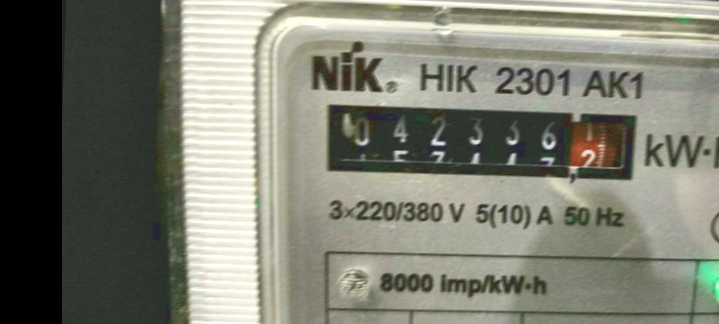0: (352, 116, 372, 150)
1: (582, 118, 595, 145)
2: (428, 115, 450, 150), (578, 149, 596, 171)
3: (465, 115, 484, 148), (504, 117, 522, 149)
4: (392, 113, 410, 146)
6: (539, 120, 560, 155)
screen: (313, 92, 651, 195)
